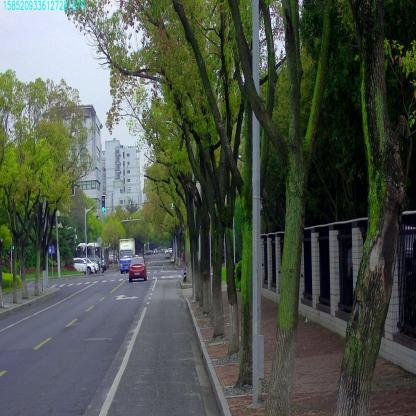traffic-light: (101, 195, 105, 212), (171, 201, 174, 208)
